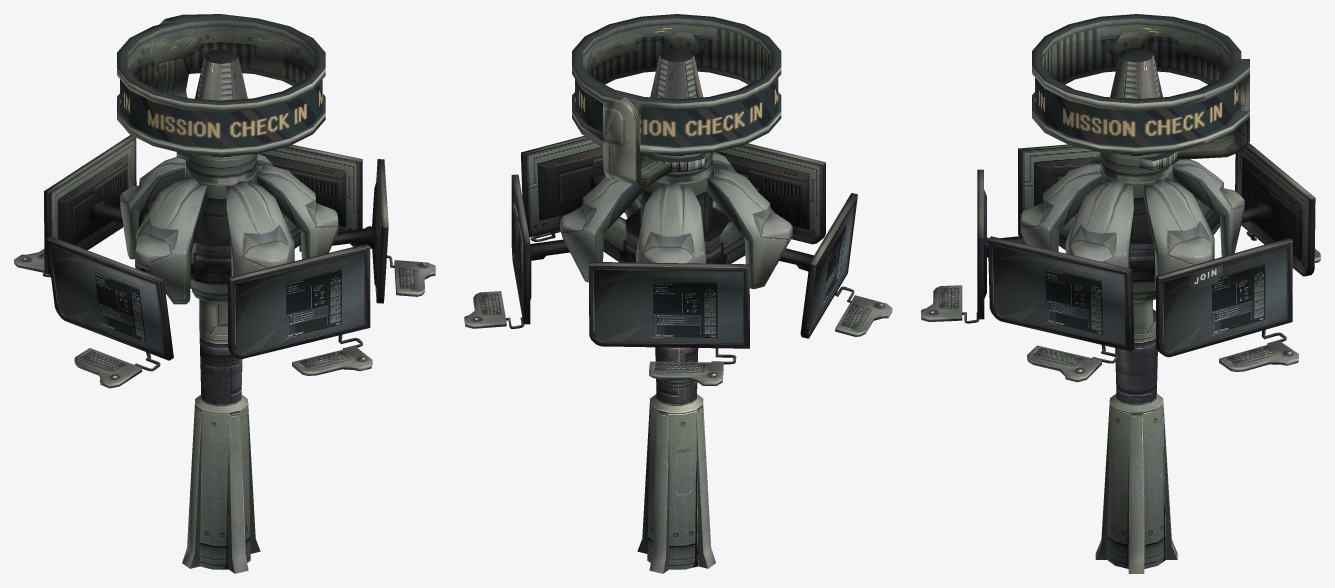
The model's file is missioncheckin.glb.
3 views of the same model, side by side, from view 1: azimuth 30°, elevation 25°; view 2: azimuth 150°, elevation 25°; view 3: azimuth 270°, elevation 25° (orthographic).
Parts seen in each view (by area): view 1: Cylinder09, __lithtech_lh_to_gltf_rh__; view 2: Cylinder09, __lithtech_lh_to_gltf_rh__; view 3: Cylinder09, __lithtech_lh_to_gltf_rh__.
Part boxes in pixels (x1,y1,x2,y2): Cylinder09: (14, 14, 435, 573); __lithtech_lh_to_gltf_rh__: (120, 79, 322, 147); Cylinder09: (464, 14, 892, 573); __lithtech_lh_to_gltf_rh__: (512, 78, 778, 225); Cylinder09: (921, 14, 1320, 573); __lithtech_lh_to_gltf_rh__: (1035, 78, 1238, 291).
Size of the model in its own units: 95.74 by 130 by 94.16.
1 material, 1 textured.
